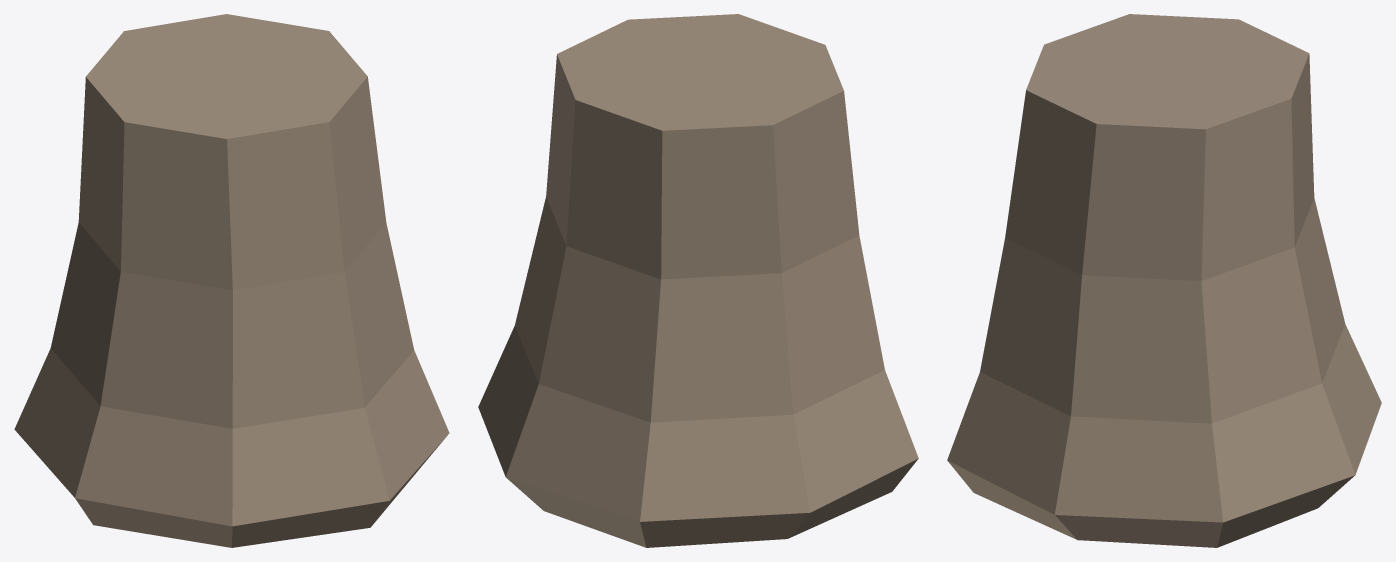
File: Tree_1_Stump.fbx
The picture shows the model from 3 angles, left to right: view 1: azimuth 30°, elevation 25°; view 2: azimuth 150°, elevation 25°; view 3: azimuth 270°, elevation 25°; orthographic projection. The views are drawn at different scales.
Parts seen in each view (by area): view 1: Plane.002; view 2: Plane.002; view 3: Plane.002.
Part boxes in pixels (x1,y1,x2,y2): Plane.002: [14, 14, 449, 547]; Plane.002: [478, 14, 918, 547]; Plane.002: [947, 14, 1381, 547].
Bounding box in the file's own units: 209 × 221 × 209.
